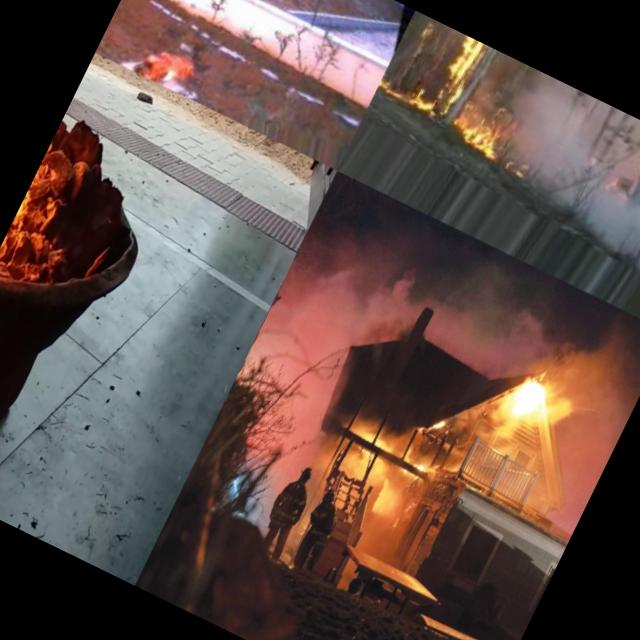fire: (410, 30, 535, 161), (508, 351, 582, 432), (130, 30, 205, 96)
smoke: (262, 198, 556, 436), (479, 67, 640, 262)
